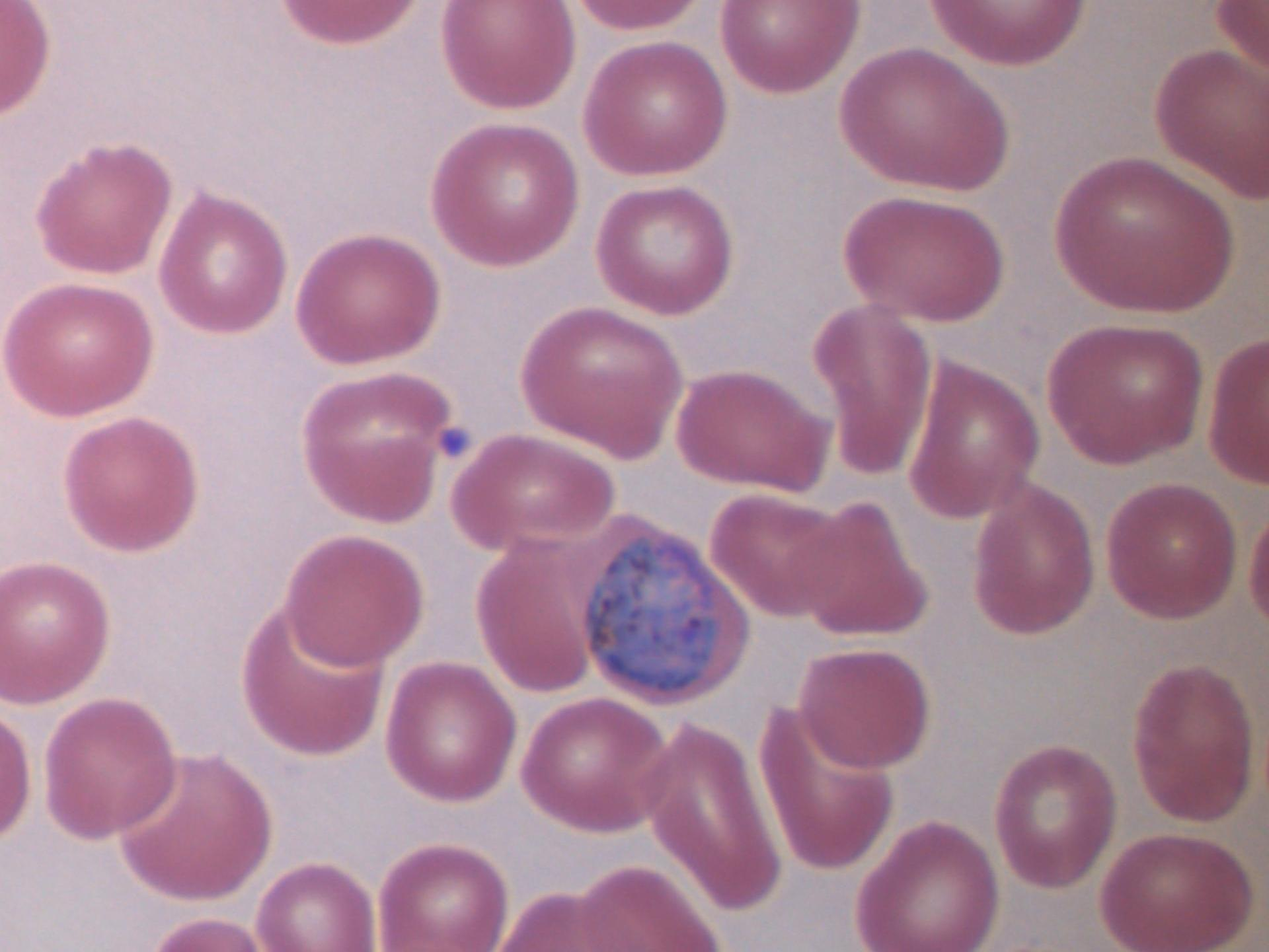Infected: (570, 519, 747, 707)
Uninfected: (1058, 162, 1232, 311), (648, 724, 779, 909), (522, 308, 681, 459), (839, 48, 1005, 192), (111, 755, 267, 898), (760, 704, 890, 868), (301, 375, 442, 524), (245, 610, 386, 755), (1046, 331, 1196, 467), (431, 128, 578, 266), (912, 359, 1040, 517), (777, 501, 927, 635), (820, 306, 936, 476), (846, 200, 1001, 320), (587, 45, 727, 176), (522, 701, 658, 835), (46, 702, 176, 842), (681, 374, 831, 495), (973, 486, 1095, 633), (707, 496, 850, 621), (1134, 664, 1250, 818), (390, 656, 513, 801), (159, 194, 284, 335), (8, 289, 149, 413), (455, 438, 609, 551), (859, 828, 999, 952), (598, 182, 728, 314), (41, 146, 171, 277), (1099, 834, 1245, 950), (304, 237, 436, 365), (288, 540, 420, 666), (69, 421, 196, 551), (1109, 488, 1233, 618), (1155, 55, 1269, 193), (478, 545, 583, 693), (1003, 749, 1112, 887), (0, 564, 106, 703), (441, 0, 572, 109), (377, 846, 506, 952), (808, 649, 924, 765), (715, 0, 855, 94), (578, 869, 719, 952), (263, 861, 371, 952)
